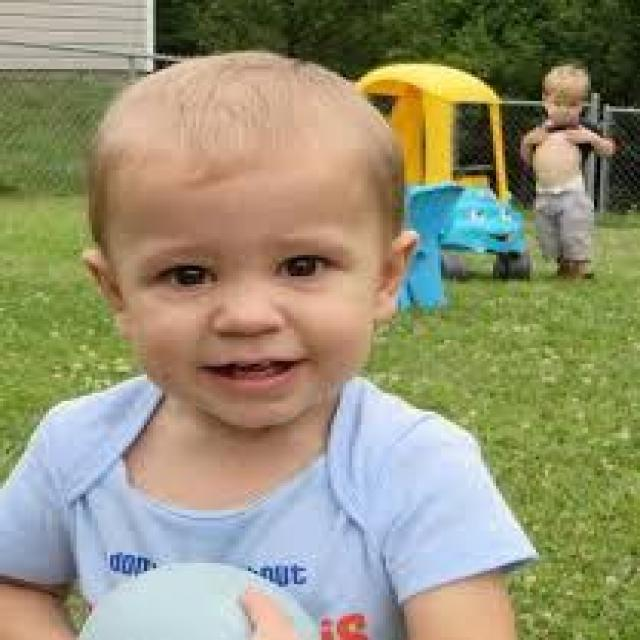person: (0, 51, 536, 634)
